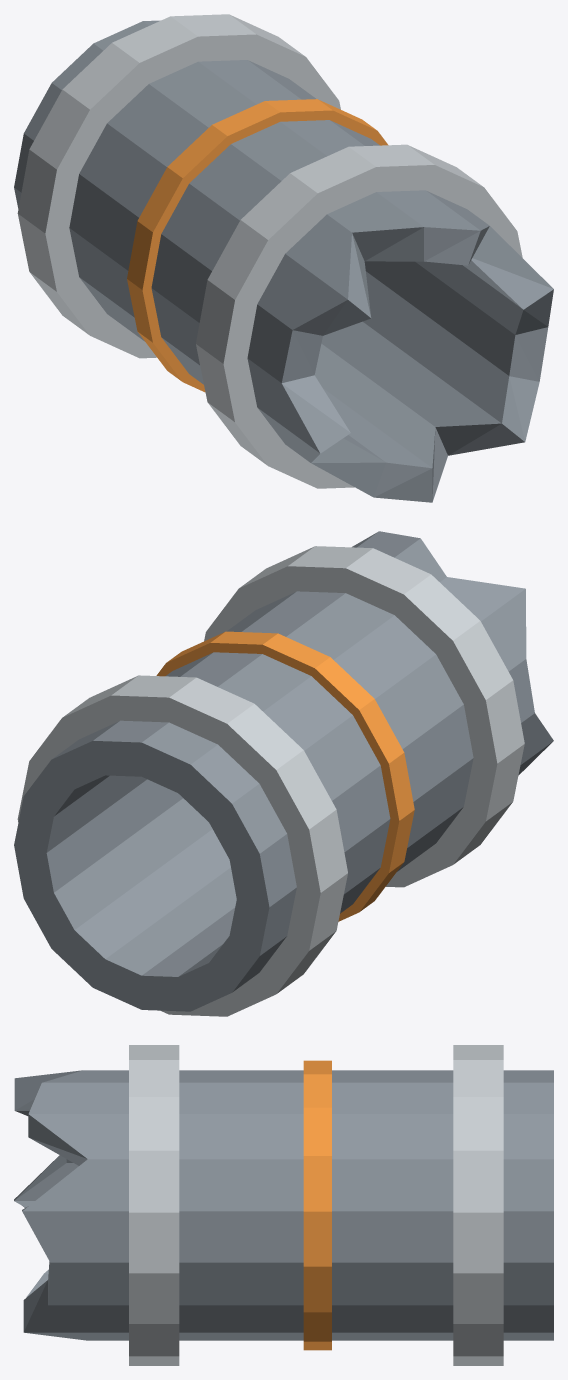
Rendered from 03_pipe_fragment.glb.
3 views of the same model, one above another, from view 1: azimuth 30°, elevation 25°; view 2: azimuth 150°, elevation 25°; view 3: azimuth 270°, elevation 25° (orthographic). The views are drawn at different scales.
Visible parts, largest first — view 1: 03_pipe_fragment; view 2: 03_pipe_fragment; view 3: 03_pipe_fragment.
Part boxes in pixels (left/top/right/bottom): 03_pipe_fragment: left=14, top=14, right=553, bottom=502; 03_pipe_fragment: left=14, top=531, right=553, bottom=1016; 03_pipe_fragment: left=14, top=1045, right=553, bottom=1365.
Size of the model in its own units: 1.02 by 1.02 by 1.72.
